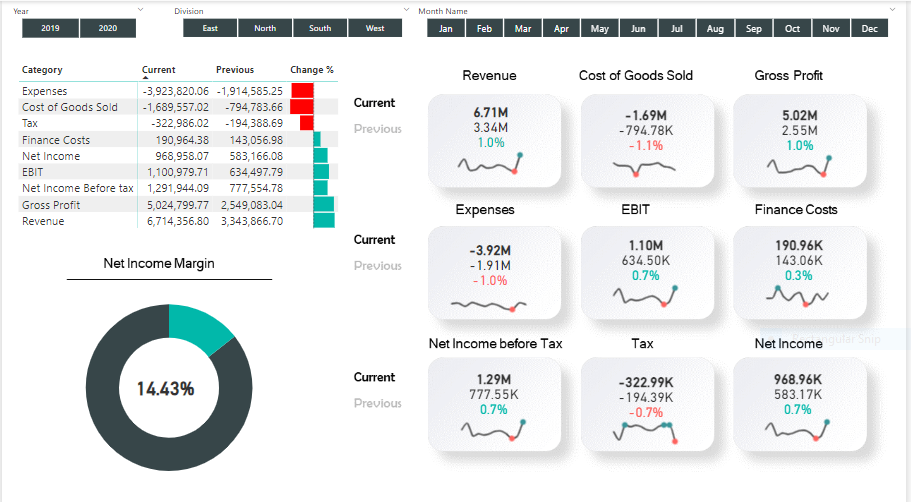

What the dashboard file says about the page in this screenshot:
{"tool":"powerbi","page":{"name":"Page 1","canvas":[1280,720],"ordinal":0},"visuals":[{"type":"pivotTable","fields":{"Values":["My Measures.Current","My Measures.Previous","My Measures.Change %"],"Rows":["Layout.Category"]},"box":[18.1,81.6,476,259.9],"z":0},{"type":"group","id":"g1","title":"Group 2","box":[640.8,136,101.3,86.1],"z":0,"group":"g10"},{"type":"group","id":"g2","title":"Group 2","box":[861.4,140.5,101.3,86.1],"z":0,"group":"g11"},{"type":"group","id":"g3","title":"Group 2","box":[1079,140.5,101.3,86.1],"z":0,"group":"g13"},{"type":"group","id":"g4","title":"Group 2","box":[861.4,324.9,101.3,86.1],"z":0,"group":"g12"},{"type":"group","id":"g5","title":"Group 2","box":[1077.5,324.9,101.3,86.1],"z":0,"group":"g23"},{"type":"group","id":"g6","title":"Group 2","box":[633.4,331,115.7,86.1],"z":0,"group":"g26"},{"type":"group","id":"g7","title":"Group 2","box":[645.3,513.8,101.3,86.1],"z":0,"group":"g27"},{"type":"group","id":"g8","title":"Group 2","box":[1076,513.8,101.3,86.1],"z":0,"group":"g25"},{"type":"group","id":"g9","title":"Group 2","box":[861.4,518.3,101.3,86.1],"z":0,"group":"g24"},{"type":"slicer","fields":{"Values":["Calender.Year"]},"box":[2.2,0,211.1,58.9],"z":1000},{"type":"PBI_CV_25997FEB_F466_44FA_B562_AC4063283C4C","fields":{"axis":["Calender.Month Name"],"measure":["My Measures.Revenue"]},"box":[628.7,201,126.9,51.4],"z":1000,"group":"g10"},{"type":"PBI_CV_25997FEB_F466_44FA_B562_AC4063283C4C","fields":{"axis":["Calender.Month Name"],"measure":["My Measures.Cost of Goods Sold"]},"box":[849.3,205.5,126.9,51.4],"z":1000,"group":"g11"},{"type":"PBI_CV_25997FEB_F466_44FA_B562_AC4063283C4C","fields":{"axis":["Calender.Month Name"],"measure":["My Measures.Gross Profit"]},"box":[1066.9,205.5,126.9,51.4],"z":1000,"group":"g13"},{"type":"PBI_CV_25997FEB_F466_44FA_B562_AC4063283C4C","fields":{"axis":["Calender.Month Name"],"measure":["My Measures.EBIT"]},"box":[849.3,389.9,126.9,51.4],"z":1000,"group":"g12"},{"type":"PBI_CV_25997FEB_F466_44FA_B562_AC4063283C4C","fields":{"axis":["Calender.Month Name"],"measure":["My Measures.Finance Costs"]},"box":[1065.4,389.9,126.9,51.4],"z":1000,"group":"g23"},{"type":"PBI_CV_25997FEB_F466_44FA_B562_AC4063283C4C","fields":{"axis":["Calender.Month Name"],"measure":["My Measures.Expenses"]},"box":[619.6,396,145.1,51.4],"z":1000,"group":"g26"},{"type":"PBI_CV_25997FEB_F466_44FA_B562_AC4063283C4C","fields":{"axis":["Calender.Month Name"],"measure":["My Measures.Net Income Before Tax"]},"box":[633.2,578.8,126.9,51.4],"z":1000,"group":"g27"},{"type":"PBI_CV_25997FEB_F466_44FA_B562_AC4063283C4C","fields":{"axis":["Calender.Month Name"],"measure":["My Measures.Net Income"]},"box":[1063.9,578.8,126.9,51.4],"z":1000,"group":"g25"},{"type":"PBI_CV_25997FEB_F466_44FA_B562_AC4063283C4C","fields":{"axis":["Calender.Month Name"],"measure":["My Measures.Tax"]},"box":[849.3,583.3,126.9,51.4],"z":1000,"group":"g24"},{"type":"donutChart","fields":{"Y":["My Measures.Net Income Mragin","My Measures.Unsued Net Income"]},"box":[18.1,395.9,436.7,305.3],"z":2000},{"type":"card","fields":{"Values":["My Measures.Net Income Mragin"]},"box":[181.3,498.7,99.7,98.2],"z":3000},{"type":"group","id":"g10","title":"Group 3","box":[628.7,136,126.9,116.4],"z":4000},{"type":"card","fields":{"Values":["KPIs.Revenue Current"]},"box":[640.8,136,101.3,43.7],"z":4000,"group":"g1"},{"type":"card","fields":{"Values":["KPIs.Cost OF Goods Sold Current"]},"box":[861.4,140.5,101.3,43.7],"z":4000,"group":"g2"},{"type":"card","fields":{"Values":["KPIs.Gross Profit Current"]},"box":[1079,140.5,101.3,43.7],"z":4000,"group":"g3"},{"type":"card","fields":{"Values":["KPIs.EBIT Current"]},"box":[861.4,324.9,101.3,43.7],"z":4000,"group":"g4"},{"type":"card","fields":{"Values":["KPIs.Finance Costs Current"]},"box":[1077.5,324.9,101.3,43.7],"z":4000,"group":"g5"},{"type":"card","fields":{"Values":["KPIs.Expenses Current"]},"box":[633.4,331,115.7,43.7],"z":4000,"group":"g6"},{"type":"card","fields":{"Values":["KPIs.Net Income Before Tax Current"]},"box":[645.3,513.8,101.3,43.7],"z":4000,"group":"g7"},{"type":"card","fields":{"Values":["KPIs.Net Income Current"]},"box":[1076,513.8,101.3,43.7],"z":4000,"group":"g8"},{"type":"card","fields":{"Values":["KPIs.Tax Current"]},"box":[861.4,518.3,101.3,43.7],"z":4000,"group":"g9"},{"type":"group","id":"g11","title":"Group 3","box":[849.3,140.5,126.9,116.4],"z":5000},{"type":"card","fields":{"Values":["KPIs.Revenue Previous"]},"box":[640.8,157.2,101.3,43.7],"z":5000,"group":"g14"},{"type":"card","fields":{"Values":["KPIs.Previous Cost OF Goods Sold"]},"box":[861.4,161.7,101.3,43.7],"z":5000,"group":"g15"},{"type":"card","fields":{"Values":["KPIs.Gross Profit Previous"]},"box":[1079,161.7,101.3,43.7],"z":5000,"group":"g16"},{"type":"card","fields":{"Values":["KPIs.EBIT Previous"]},"box":[861.4,346.1,101.3,43.7],"z":5000,"group":"g17"},{"type":"card","fields":{"Values":["KPIs.Finance Cost Previous"]},"box":[1077.5,346.1,101.3,43.7],"z":5000,"group":"g18"},{"type":"card","fields":{"Values":["KPIs.Expenses Previous"]},"box":[633.4,352.2,115.7,43.7],"z":5000,"group":"g19"},{"type":"card","fields":{"Values":["KPIs.Net income Before Tax Previous"]},"box":[645.3,535,101.3,43.7],"z":5000,"group":"g20"},{"type":"card","fields":{"Values":["KPIs.Net Income Previous"]},"box":[1076,535,101.3,43.7],"z":5000,"group":"g21"},{"type":"card","fields":{"Values":["KPIs.Tax Previous"]},"box":[861.4,539.5,101.3,43.7],"z":5000,"group":"g22"},{"type":"card","fields":{"Values":["KPIs.Change Revenue %"]},"box":[640.8,178.4,101.3,43.7],"z":6000,"group":"g14"},{"type":"card","fields":{"Values":["KPIs.Change Cost of Goods Sold %"]},"box":[861.4,182.9,101.3,43.7],"z":6000,"group":"g15"},{"type":"card","fields":{"Values":["KPIs.Gross Profit Change %"]},"box":[1079,182.9,101.3,43.7],"z":6000,"group":"g16"},{"type":"group","id":"g12","title":"Group 3","box":[849.3,324.9,126.9,116.4],"z":6000},{"type":"card","fields":{"Values":["KPIs.EBIT Change %"]},"box":[861.4,367.3,101.3,43.7],"z":6000,"group":"g17"},{"type":"card","fields":{"Values":["KPIs.Finance Costs Change %"]},"box":[1077.5,367.3,101.3,43.7],"z":6000,"group":"g18"},{"type":"card","fields":{"Values":["KPIs.Expenses Change %"]},"box":[633.4,373.4,115.7,43.7],"z":6000,"group":"g19"},{"type":"card","fields":{"Values":["KPIs.Net Income Before Tax Change %"]},"box":[645.3,556.2,101.3,43.7],"z":6000,"group":"g20"},{"type":"card","fields":{"Values":["KPIs.Net Income Change %"]},"box":[1076,556.2,101.3,43.7],"z":6000,"group":"g21"},{"type":"card","fields":{"Values":["KPIs.Tax Change %"]},"box":[861.4,560.7,101.3,43.7],"z":6000,"group":"g22"},{"type":"group","id":"g13","title":"Group 3","box":[1066.9,140.5,126.9,116.4],"z":7000},{"type":"group","id":"g14","title":"Group 1","box":[640.8,157.2,101.3,64.9],"z":7001,"group":"g1"},{"type":"group","id":"g15","title":"Group 1","box":[861.4,161.7,101.3,64.9],"z":7001,"group":"g2"},{"type":"group","id":"g16","title":"Group 1","box":[1079,161.7,101.3,64.9],"z":7001,"group":"g3"},{"type":"group","id":"g17","title":"Group 1","box":[861.4,346.1,101.3,64.9],"z":7001,"group":"g4"},{"type":"group","id":"g18","title":"Group 1","box":[1077.5,346.1,101.3,64.9],"z":7001,"group":"g5"},{"type":"group","id":"g19","title":"Group 1","box":[633.4,352.2,115.7,64.9],"z":7001,"group":"g6"},{"type":"group","id":"g20","title":"Group 1","box":[645.3,535,101.3,64.9],"z":7001,"group":"g7"},{"type":"group","id":"g21","title":"Group 1","box":[1076,535,101.3,64.9],"z":7001,"group":"g8"},{"type":"group","id":"g22","title":"Group 1","box":[861.4,539.5,101.3,64.9],"z":7001,"group":"g9"},{"type":"group","id":"g23","title":"Group 3","box":[1065.4,324.9,126.9,116.4],"z":8000},{"type":"group","id":"g24","title":"Group 3","box":[849.3,518.3,126.9,116.4],"z":9000},{"type":"group","id":"g25","title":"Group 3","box":[1063.9,513.8,126.9,116.4],"z":10000},{"type":"group","id":"g26","title":"Group 3","box":[619.6,331,145.1,116.4],"z":10001},{"type":"group","id":"g27","title":"Group 3","box":[633.2,513.8,126.9,116.4],"z":10002},{"type":"slicer","fields":{"Values":["Divisions.Division"]},"box":[230.8,0,360,58.5],"z":10003},{"type":"slicer","fields":{"Values":["Calender.Month Name"]},"box":[576.9,0,703.1,58.5],"z":10004}]}

Visuals, with their boxes in screenshot pixels (x1, y1, x2, y2), scaled from the page's 1280x720 canvas onto the 911x502 screenshot:
pivotTable - My Measures.Current x My Measures.Previous: {"left": 13, "top": 57, "right": 352, "bottom": 238}
"Group 2" group: {"left": 456, "top": 95, "right": 528, "bottom": 155}
"Group 2" group: {"left": 613, "top": 98, "right": 685, "bottom": 158}
"Group 2" group: {"left": 768, "top": 98, "right": 840, "bottom": 158}
"Group 2" group: {"left": 613, "top": 227, "right": 685, "bottom": 287}
"Group 2" group: {"left": 767, "top": 227, "right": 839, "bottom": 287}
"Group 2" group: {"left": 451, "top": 231, "right": 533, "bottom": 291}
"Group 2" group: {"left": 459, "top": 358, "right": 531, "bottom": 418}
"Group 2" group: {"left": 766, "top": 358, "right": 838, "bottom": 418}
"Group 2" group: {"left": 613, "top": 361, "right": 685, "bottom": 421}
slicer - Calender.Year: {"left": 2, "top": 0, "right": 152, "bottom": 41}
PBI_CV_25997FEB_F466_44FA_B562_AC4063283C4C - Calender.Month Name x My Measures.Revenue: {"left": 447, "top": 140, "right": 538, "bottom": 176}
PBI_CV_25997FEB_F466_44FA_B562_AC4063283C4C - Calender.Month Name x My Measures.Cost of Goods Sold: {"left": 604, "top": 143, "right": 695, "bottom": 179}
PBI_CV_25997FEB_F466_44FA_B562_AC4063283C4C - Calender.Month Name x My Measures.Gross Profit: {"left": 759, "top": 143, "right": 850, "bottom": 179}
PBI_CV_25997FEB_F466_44FA_B562_AC4063283C4C - Calender.Month Name x My Measures.EBIT: {"left": 604, "top": 272, "right": 695, "bottom": 308}
PBI_CV_25997FEB_F466_44FA_B562_AC4063283C4C - Calender.Month Name x My Measures.Finance Costs: {"left": 758, "top": 272, "right": 849, "bottom": 308}
PBI_CV_25997FEB_F466_44FA_B562_AC4063283C4C - Calender.Month Name x My Measures.Expenses: {"left": 441, "top": 276, "right": 544, "bottom": 312}
PBI_CV_25997FEB_F466_44FA_B562_AC4063283C4C - Calender.Month Name x My Measures.Net Income Before Tax: {"left": 451, "top": 404, "right": 541, "bottom": 439}
PBI_CV_25997FEB_F466_44FA_B562_AC4063283C4C - Calender.Month Name x My Measures.Net Income: {"left": 757, "top": 404, "right": 848, "bottom": 439}
PBI_CV_25997FEB_F466_44FA_B562_AC4063283C4C - Calender.Month Name x My Measures.Tax: {"left": 604, "top": 407, "right": 695, "bottom": 443}
donutChart - My Measures.Net Income Mragin x My Measures.Unsued Net Income: {"left": 13, "top": 276, "right": 324, "bottom": 489}
card - My Measures.Net Income Mragin: {"left": 129, "top": 348, "right": 200, "bottom": 416}
"Group 3" group: {"left": 447, "top": 95, "right": 538, "bottom": 176}
card - KPIs.Revenue Current: {"left": 456, "top": 95, "right": 528, "bottom": 125}
card - KPIs.Cost OF Goods Sold Current: {"left": 613, "top": 98, "right": 685, "bottom": 128}
card - KPIs.Gross Profit Current: {"left": 768, "top": 98, "right": 840, "bottom": 128}
card - KPIs.EBIT Current: {"left": 613, "top": 227, "right": 685, "bottom": 257}
card - KPIs.Finance Costs Current: {"left": 767, "top": 227, "right": 839, "bottom": 257}
card - KPIs.Expenses Current: {"left": 451, "top": 231, "right": 533, "bottom": 261}
card - KPIs.Net Income Before Tax Current: {"left": 459, "top": 358, "right": 531, "bottom": 389}
card - KPIs.Net Income Current: {"left": 766, "top": 358, "right": 838, "bottom": 389}
card - KPIs.Tax Current: {"left": 613, "top": 361, "right": 685, "bottom": 392}
"Group 3" group: {"left": 604, "top": 98, "right": 695, "bottom": 179}
card - KPIs.Revenue Previous: {"left": 456, "top": 110, "right": 528, "bottom": 140}
card - KPIs.Previous Cost OF Goods Sold: {"left": 613, "top": 113, "right": 685, "bottom": 143}
card - KPIs.Gross Profit Previous: {"left": 768, "top": 113, "right": 840, "bottom": 143}
card - KPIs.EBIT Previous: {"left": 613, "top": 241, "right": 685, "bottom": 272}
card - KPIs.Finance Cost Previous: {"left": 767, "top": 241, "right": 839, "bottom": 272}
card - KPIs.Expenses Previous: {"left": 451, "top": 246, "right": 533, "bottom": 276}
card - KPIs.Net income Before Tax Previous: {"left": 459, "top": 373, "right": 531, "bottom": 403}
card - KPIs.Net Income Previous: {"left": 766, "top": 373, "right": 838, "bottom": 403}
card - KPIs.Tax Previous: {"left": 613, "top": 376, "right": 685, "bottom": 407}
card - KPIs.Change Revenue %: {"left": 456, "top": 124, "right": 528, "bottom": 155}
card - KPIs.Change Cost of Goods Sold %: {"left": 613, "top": 128, "right": 685, "bottom": 158}
card - KPIs.Gross Profit Change %: {"left": 768, "top": 128, "right": 840, "bottom": 158}
"Group 3" group: {"left": 604, "top": 227, "right": 695, "bottom": 308}
card - KPIs.EBIT Change %: {"left": 613, "top": 256, "right": 685, "bottom": 287}
card - KPIs.Finance Costs Change %: {"left": 767, "top": 256, "right": 839, "bottom": 287}
card - KPIs.Expenses Change %: {"left": 451, "top": 260, "right": 533, "bottom": 291}
card - KPIs.Net Income Before Tax Change %: {"left": 459, "top": 388, "right": 531, "bottom": 418}
card - KPIs.Net Income Change %: {"left": 766, "top": 388, "right": 838, "bottom": 418}
card - KPIs.Tax Change %: {"left": 613, "top": 391, "right": 685, "bottom": 421}
"Group 3" group: {"left": 759, "top": 98, "right": 850, "bottom": 179}
"Group 1" group: {"left": 456, "top": 110, "right": 528, "bottom": 155}
"Group 1" group: {"left": 613, "top": 113, "right": 685, "bottom": 158}
"Group 1" group: {"left": 768, "top": 113, "right": 840, "bottom": 158}
"Group 1" group: {"left": 613, "top": 241, "right": 685, "bottom": 287}
"Group 1" group: {"left": 767, "top": 241, "right": 839, "bottom": 287}
"Group 1" group: {"left": 451, "top": 246, "right": 533, "bottom": 291}
"Group 1" group: {"left": 459, "top": 373, "right": 531, "bottom": 418}
"Group 1" group: {"left": 766, "top": 373, "right": 838, "bottom": 418}
"Group 1" group: {"left": 613, "top": 376, "right": 685, "bottom": 421}
"Group 3" group: {"left": 758, "top": 227, "right": 849, "bottom": 308}
"Group 3" group: {"left": 604, "top": 361, "right": 695, "bottom": 443}
"Group 3" group: {"left": 757, "top": 358, "right": 848, "bottom": 439}
"Group 3" group: {"left": 441, "top": 231, "right": 544, "bottom": 312}
"Group 3" group: {"left": 451, "top": 358, "right": 541, "bottom": 439}
slicer - Divisions.Division: {"left": 164, "top": 0, "right": 420, "bottom": 41}
slicer - Calender.Month Name: {"left": 411, "top": 0, "right": 910, "bottom": 41}
